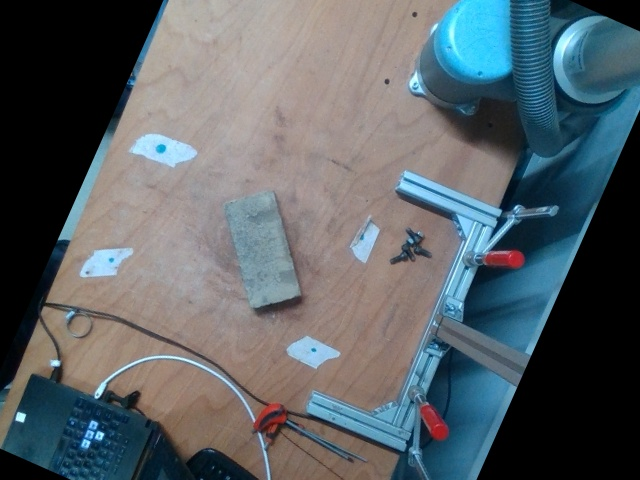brick: (226, 193, 297, 307)
